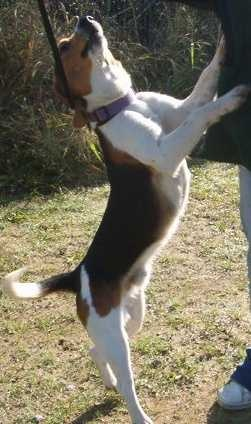dog: (6, 0, 223, 414)
